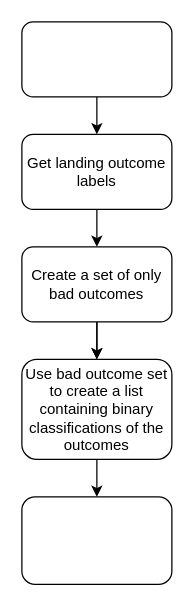
This 194x606 diagram has some shape labels left out. Here are the shapes that lost their labels. From the top down, the centre of each, then its label:
the point at 96,59: Pandas DataFrame containing landing outcomes
the point at 96,540: Add list to DataFrame as "Class" column
